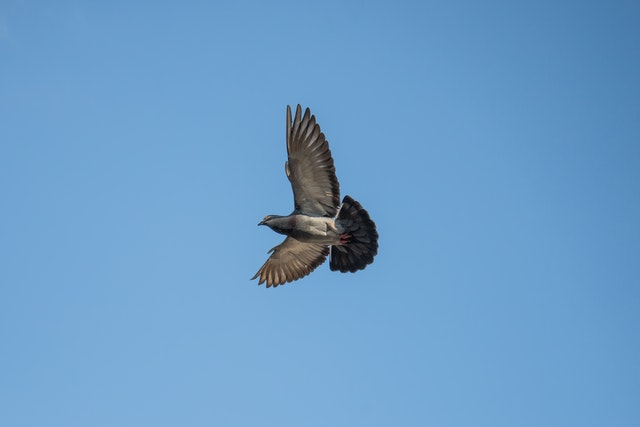bird: (251, 103, 379, 287)
